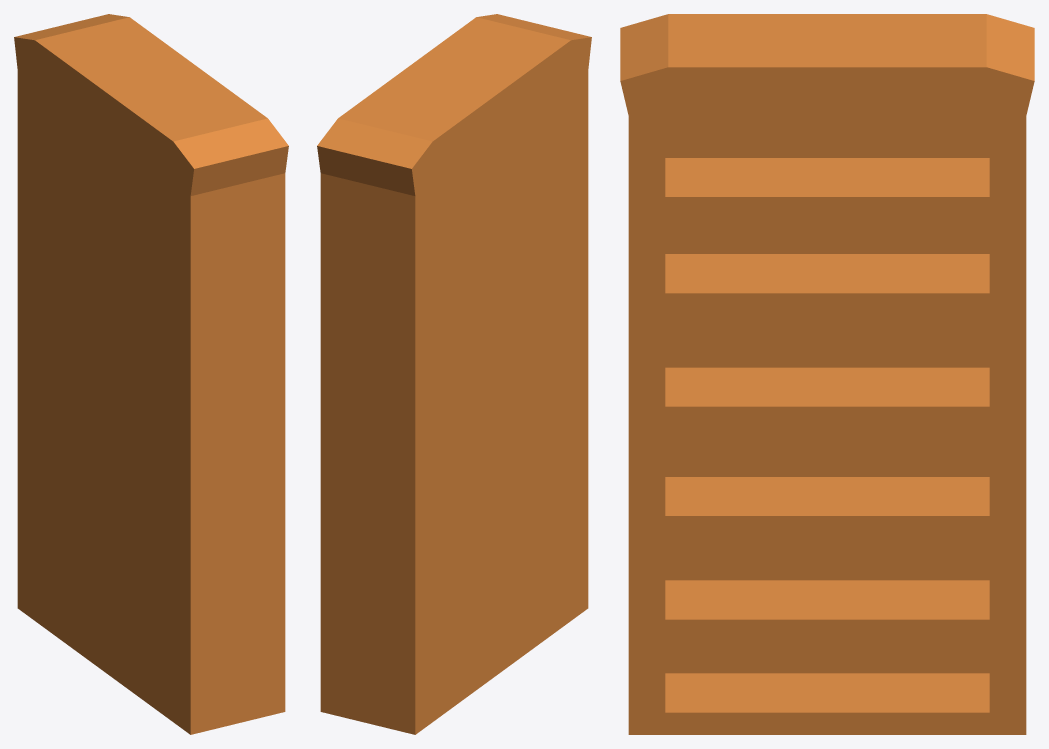
File: shelf empty.fbx
The picture shows the model from 3 angles, left to right: view 1: azimuth 30°, elevation 25°; view 2: azimuth 150°, elevation 25°; view 3: azimuth 270°, elevation 25°; orthographic projection. The views are drawn at different scales.
Parts seen in each view (by area): view 1: empty Shelf; view 2: empty Shelf; view 3: empty Shelf.
Part boxes in pixels (left/top/right/bottom): empty Shelf: left=14, top=14, right=288, bottom=734; empty Shelf: left=317, top=14, right=591, bottom=734; empty Shelf: left=620, top=14, right=1034, bottom=734.
Bounding box in the file's own units: 63.24 × 370 × 208.
